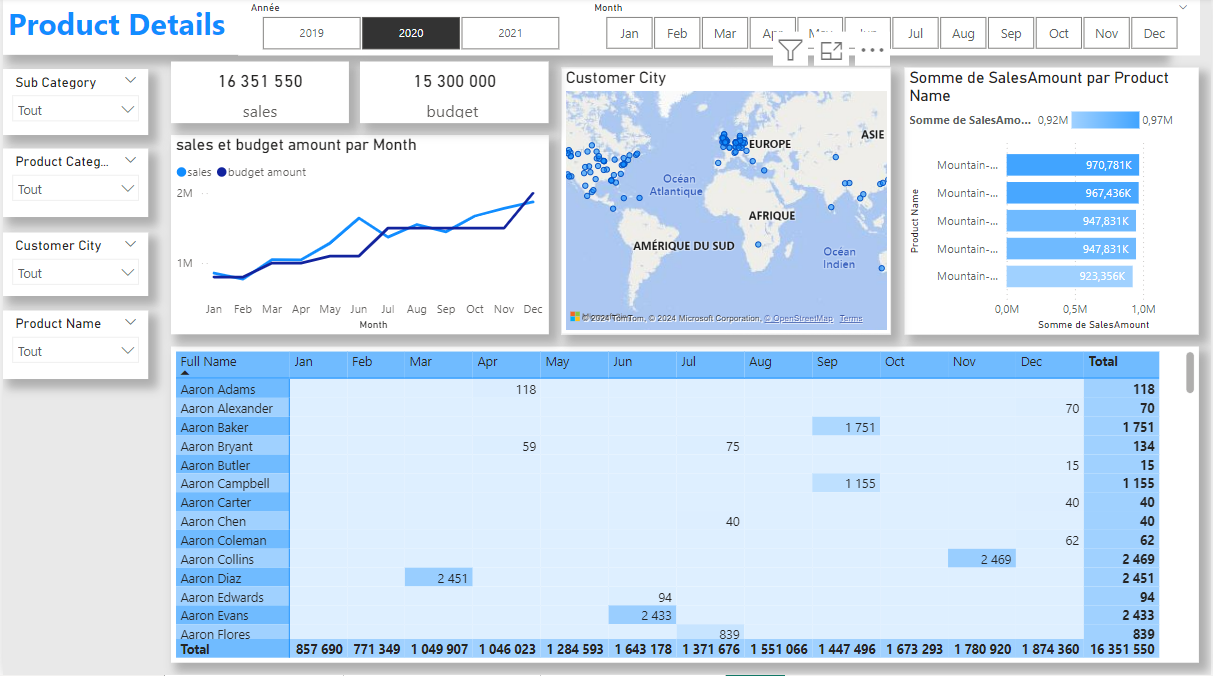

The dashboard page shown, as its layout file describes it:
{"tool":"powerbi","page":{"name":"Product Details","canvas":[1280,720],"ordinal":2},"visuals":[{"type":"textbox","box":[0,0,1227.1,61.4],"z":0},{"type":"slicer","fields":{"Values":["DIM_Products.Sub Category"]},"box":[0,75.7,154.3,70],"z":1000},{"type":"slicer","fields":{"Values":["DIM_Products.Product Category"]},"box":[0,160,154.3,72.9],"z":2000},{"type":"slicer","fields":{"Values":["DIM_Customers.Customer City"]},"box":[0,250,154.3,67.1],"z":3000},{"type":"slicer","fields":{"Values":["DIM_Products.Product Name"]},"box":[0,332.9,154.3,72.9],"z":4000},{"type":"slicer","fields":{"Values":["DIM_Calendarcsv.Date.Variation.Hiérarchie de dates.Année"]},"box":[249.7,0,364.2,62],"z":5000},{"type":"slicer","fields":{"Values":["DIM_Calendarcsv.MonthShort"]},"box":[613.3,0,655,61.7],"z":6000},{"type":"clusteredBarChart","fields":{"Category":["DIM_Products.Product Name"],"Y":["Sum(FACT_InternetSales.SalesAmount)"]},"box":[956.7,75,311.7,283.3],"z":7000},{"type":"pivotTable","fields":{"Rows":["DIM_Customers.Full Name"],"Columns":["DIM_Calendarcsv.MonthShort"],"Values":["Measures Table.sales"]},"box":[178.3,370,1090,335],"z":10000},{"type":"lineChart","fields":{"Y2":["FACT_InternetSales.sales","Budget.budget amount"],"Category":["DIM_Calendarcsv.MonthShort"]},"box":[178.1,146.3,400.8,211.6],"z":11000},{"type":"map","fields":{"Category":["DIM_Customers.Customer City"]},"box":[591.7,75,350,283.3],"z":12000},{"type":"card","fields":{"Values":["Measures Table.sales"]},"box":[178.3,68.3,188.3,65],"z":13000},{"type":"card","fields":{"Values":["Measures Table.budget amount"]},"box":[378.3,68.3,200,65],"z":14000}]}

Visuals, with their boxes in screenshot pixels (x1, y1, x2, y2), scaled from the page's 1280x720 canvas onto the 1213x676 screenshot:
textbox: <bbox>0, 0, 1163, 58</bbox>
slicer - DIM_Products.Sub Category: <bbox>0, 71, 146, 137</bbox>
slicer - DIM_Products.Product Category: <bbox>0, 150, 146, 219</bbox>
slicer - DIM_Customers.Customer City: <bbox>0, 235, 146, 298</bbox>
slicer - DIM_Products.Product Name: <bbox>0, 313, 146, 381</bbox>
slicer - DIM_Calendarcsv.Date.Variation.Hiérarchie de dates.Année: <bbox>237, 0, 582, 58</bbox>
slicer - DIM_Calendarcsv.MonthShort: <bbox>581, 0, 1202, 58</bbox>
clusteredBarChart - DIM_Products.Product Name x Sum(FACT_InternetSales.SalesAmount): <bbox>907, 70, 1202, 336</bbox>
pivotTable - DIM_Customers.Full Name x DIM_Calendarcsv.MonthShort: <bbox>169, 347, 1202, 662</bbox>
lineChart - FACT_InternetSales.sales x Budget.budget amount: <bbox>169, 137, 549, 336</bbox>
map - DIM_Customers.Customer City: <bbox>561, 70, 892, 336</bbox>
card - Measures Table.sales: <bbox>169, 64, 347, 125</bbox>
card - Measures Table.budget amount: <bbox>358, 64, 548, 125</bbox>
